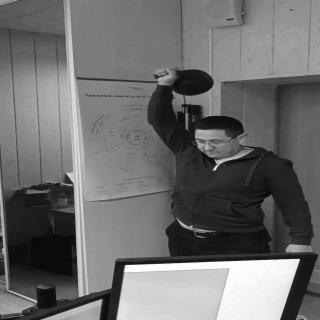kettlebell: (154, 67, 221, 99)
